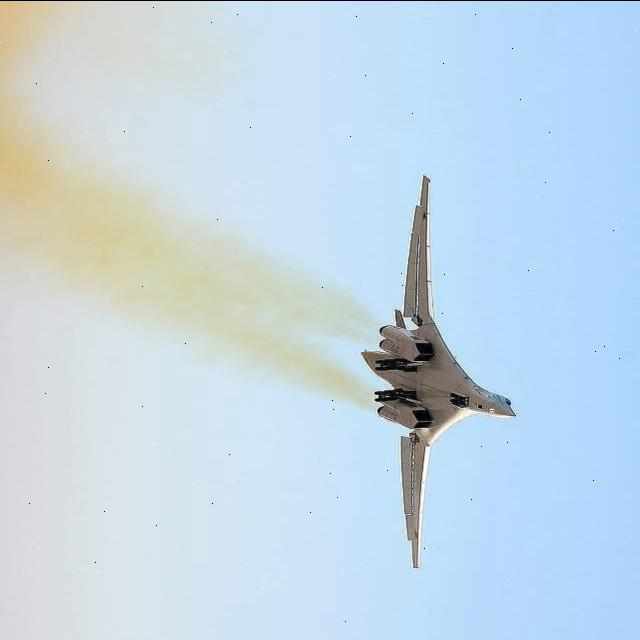Tu160: (312, 156, 562, 596)
